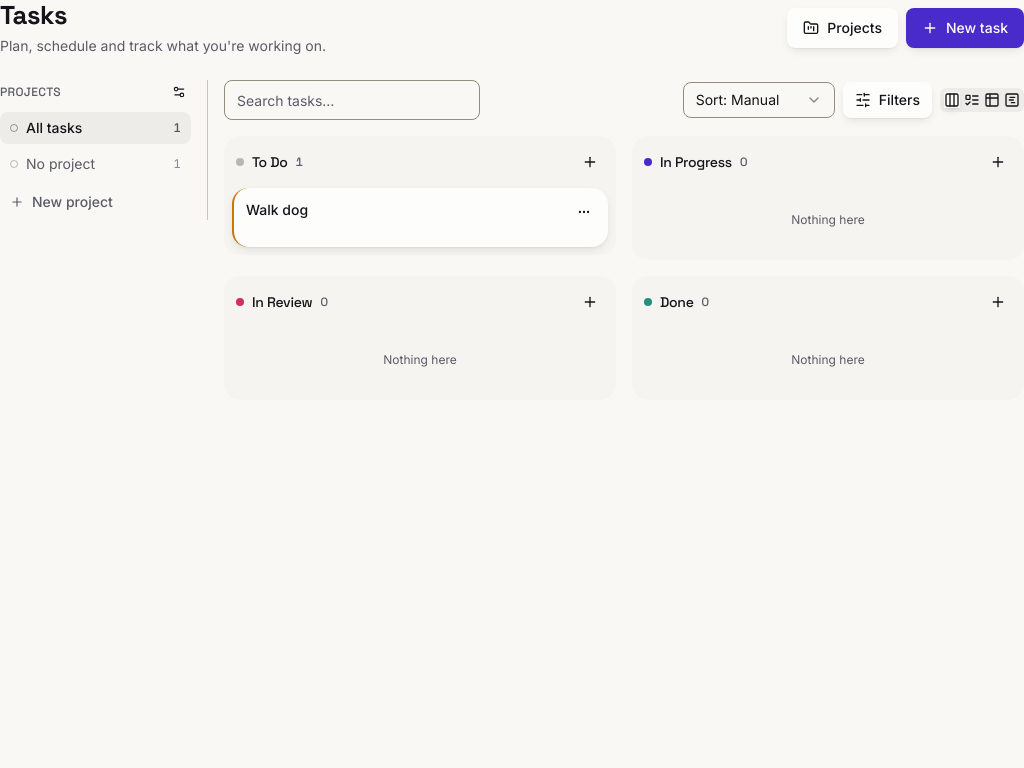
Test: view before edit › opens a task read-only
Step 1. Click the button labelled "Walk dog" → click(277, 210), box [232, 188, 608, 247]
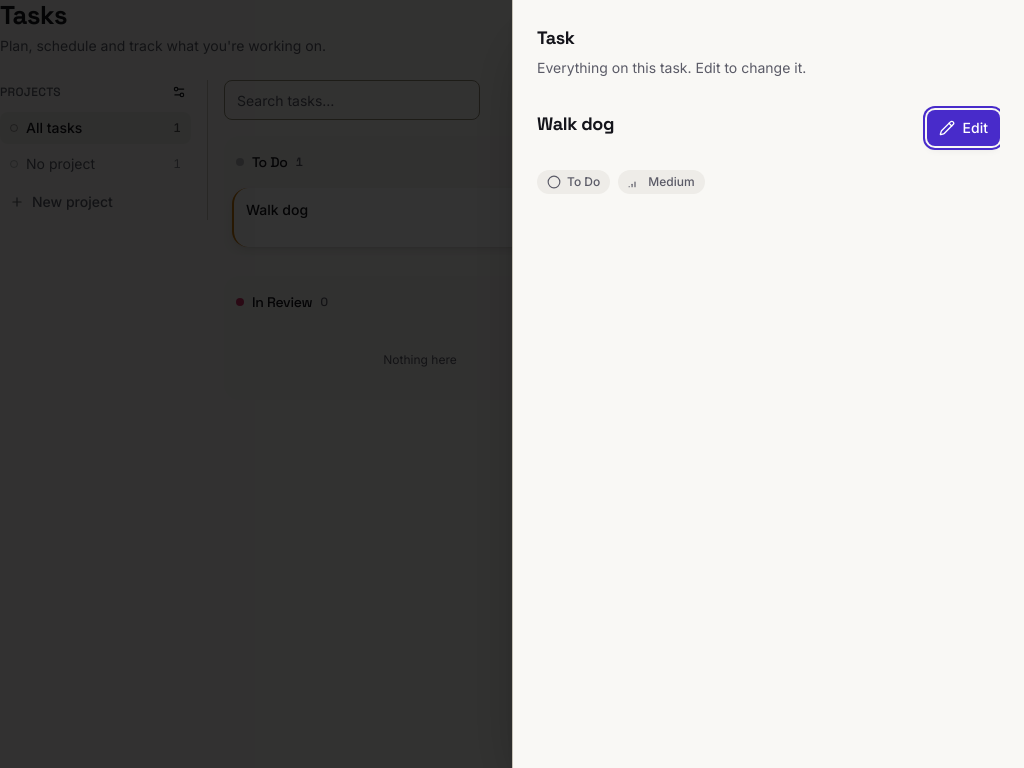
Result: the button "Edit" is shown at [927, 110, 1000, 146]
